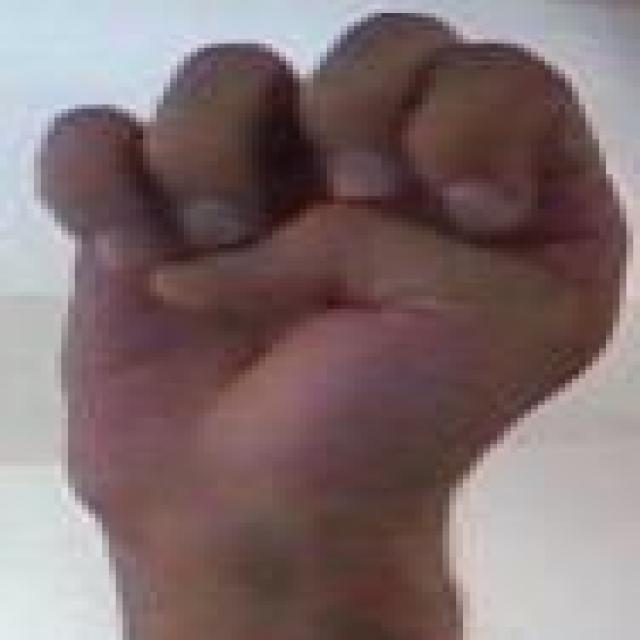E: (17, 15, 633, 495)
